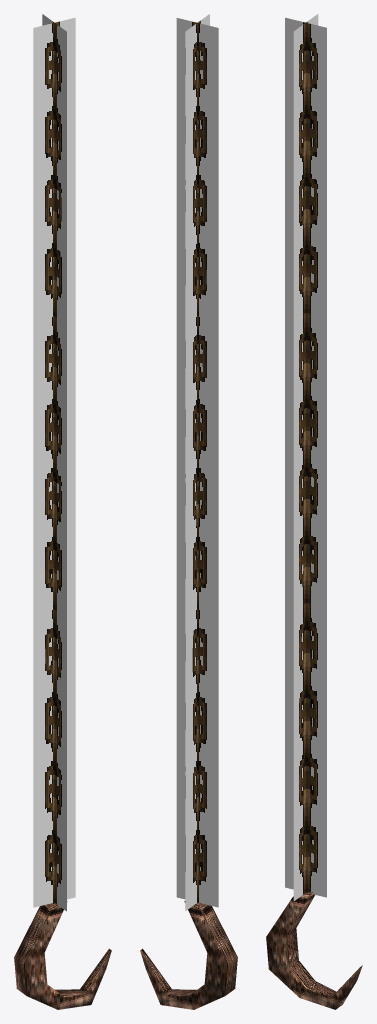
The model's file is PAWHOOK_ACTORDEF.fbx.
3 views of the same model, side by side, from view 1: azimuth 30°, elevation 25°; view 2: azimuth 150°, elevation 25°; view 3: azimuth 330°, elevation 25° (orthographic).
Parts seen in each view (by area): view 1: U3DMesh; view 2: U3DMesh; view 3: U3DMesh.
Part boxes in pixels (<box>): U3DMesh: <box>14,14,111,1009</box>; U3DMesh: <box>140,14,237,1009</box>; U3DMesh: <box>266,14,362,1009</box>.
Size of the model in its own units: 2.18 by 22.46 by 1.
